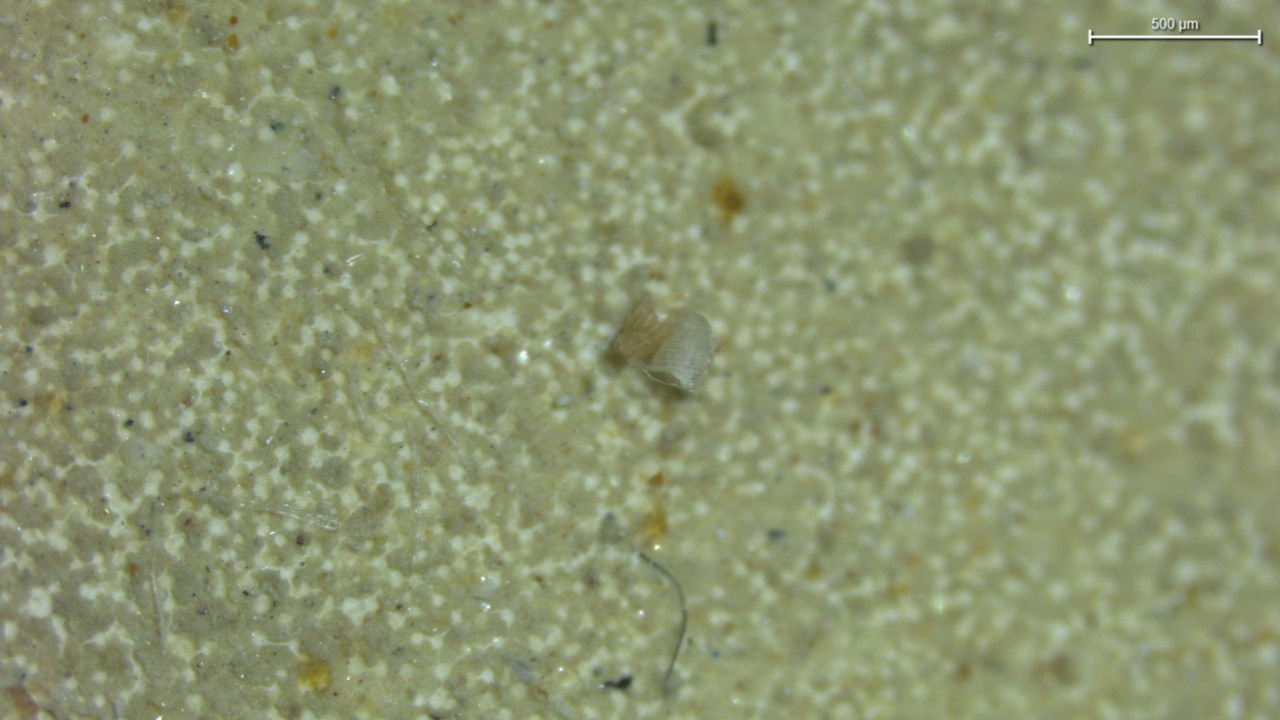microplastic_fragment: (607, 294, 714, 392)
